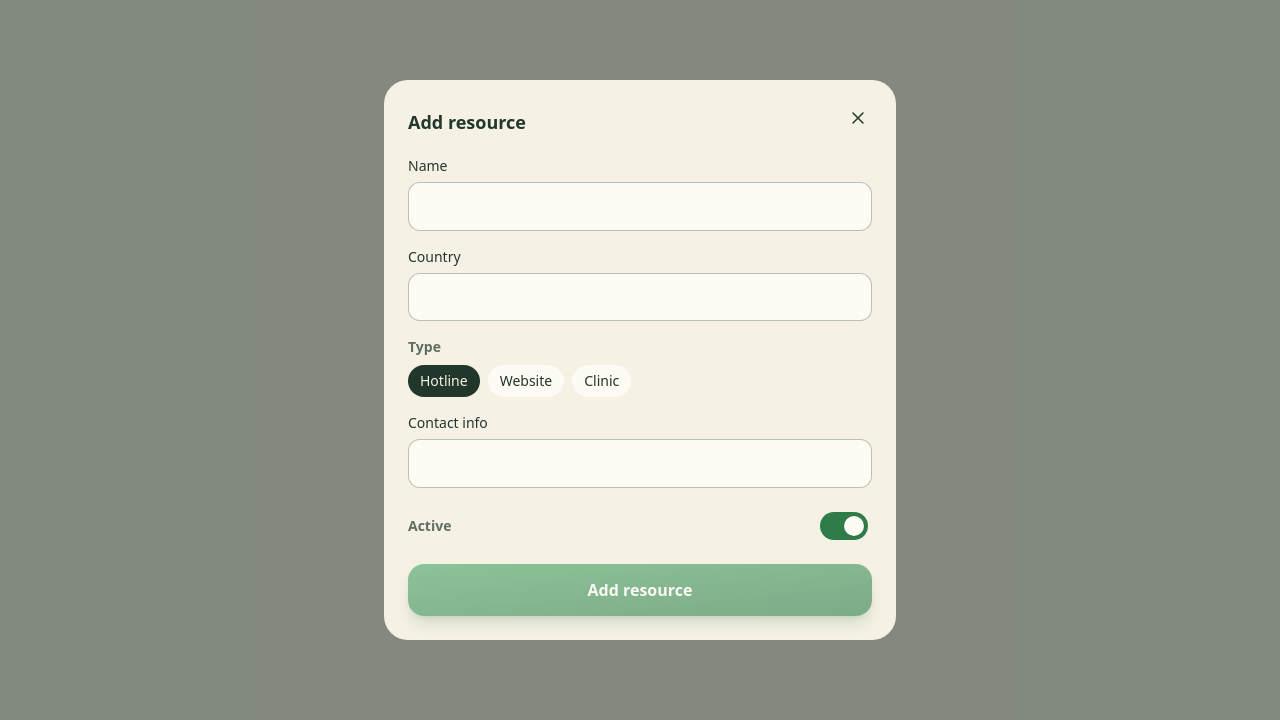
AdminEmergencyResourceSheet › shows an error message when creating fails
Type "Youth Support Line" into the field labelled "Name" at (640, 207), box [408, 182, 872, 231]
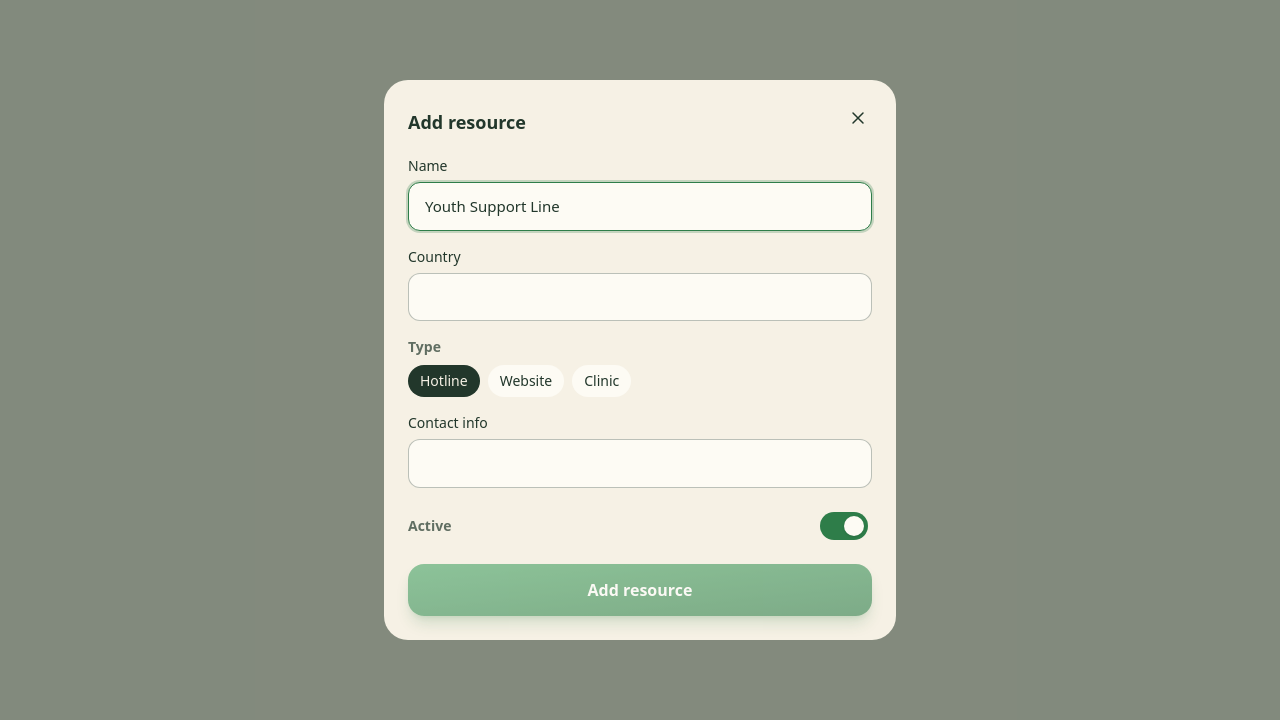
Type "Kenya" into the field labelled "Country" at (640, 297), box [408, 273, 872, 321]
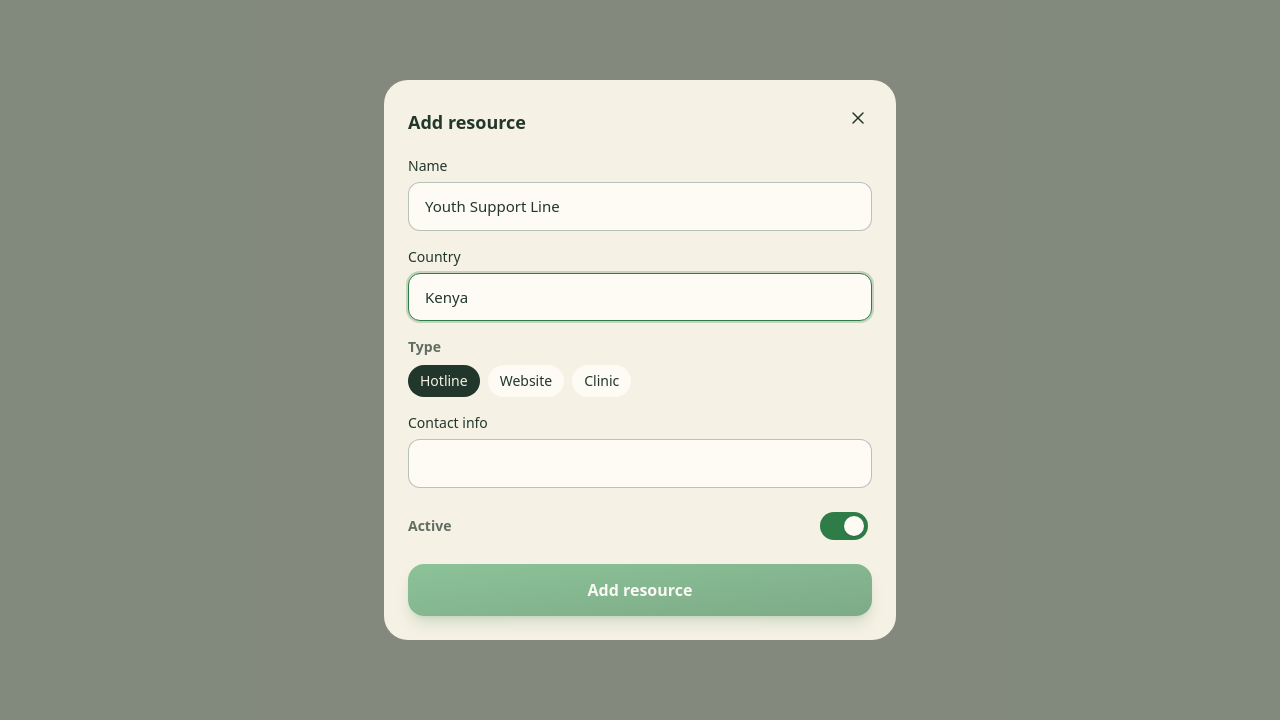
Type "+254 700 000000" into the field labelled "Contact info" at (640, 464), box [408, 439, 872, 488]
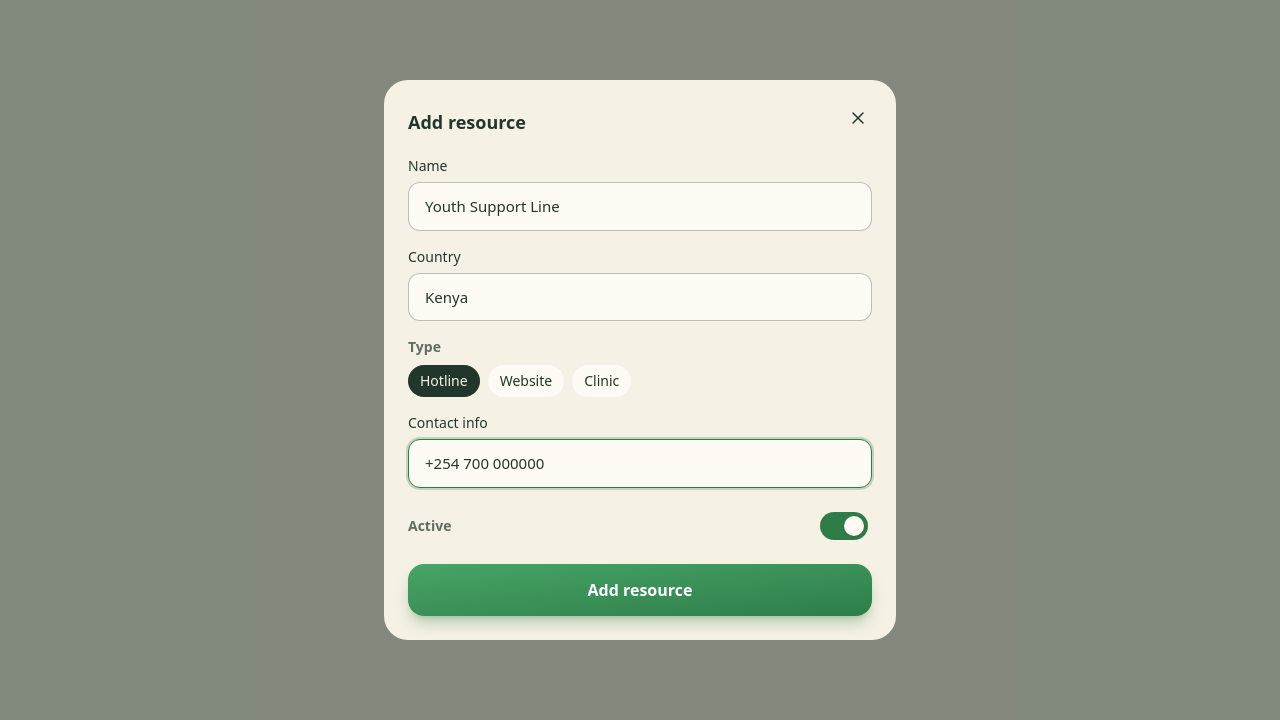
Click the button "Add resource" at (640, 590), box [408, 564, 872, 616]
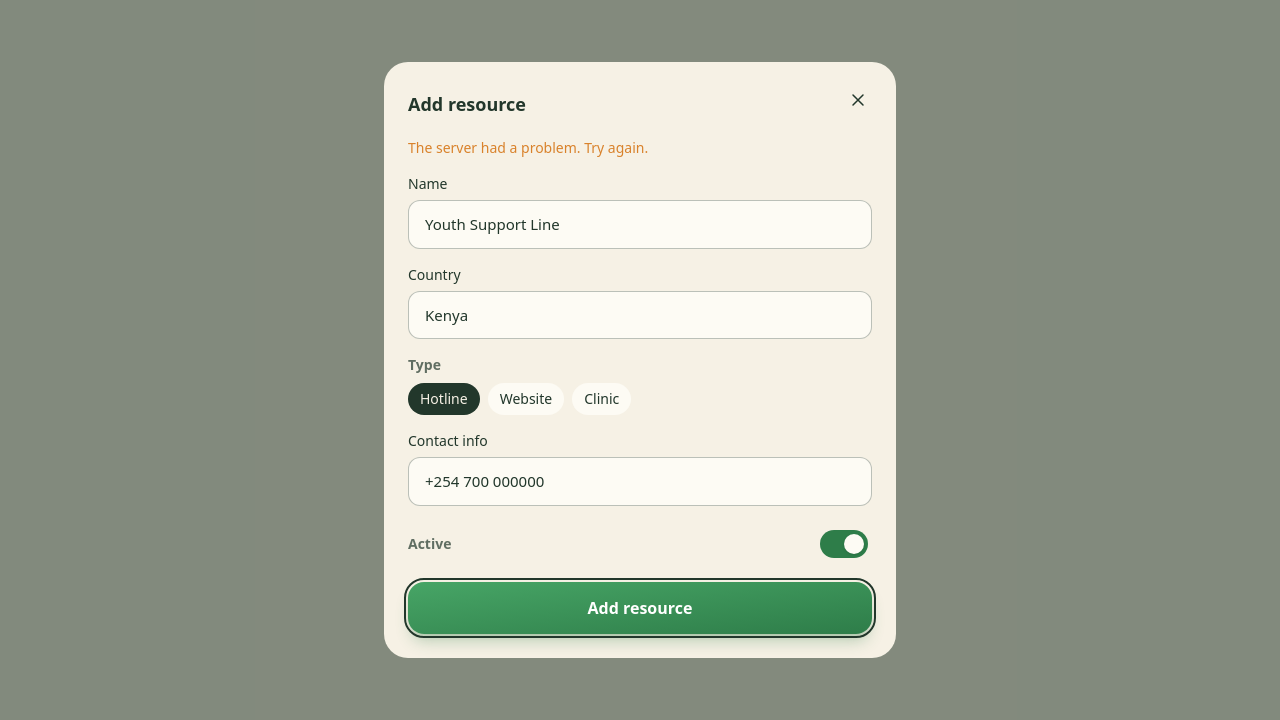
Check: the message reads "The server had a problem. Try again.", box [408, 138, 648, 157]
